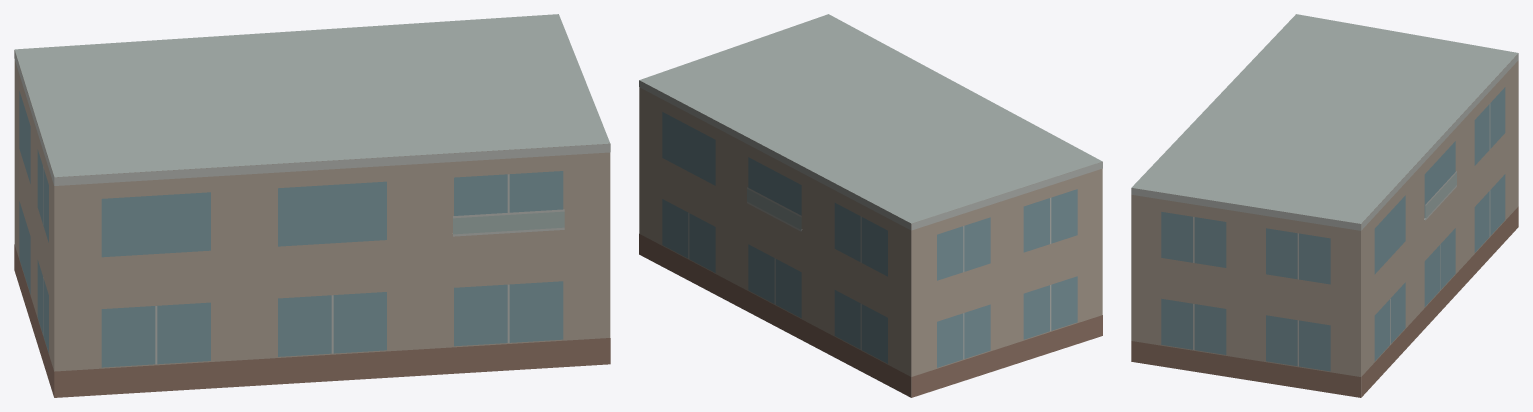
File: survey-upis-32994819.glb
3 views of the same model, side by side, from view 1: azimuth 30°, elevation 25°; view 2: azimuth 150°, elevation 25°; view 3: azimuth 270°, elevation 25° (orthographic). The views are drawn at different scales.
Visible parts, largest first — view 1: survey-upis-32994819.tmp; view 2: survey-upis-32994819.tmp; view 3: survey-upis-32994819.tmp.
Boxes of the visible parts, left/top/right/bottom form: survey-upis-32994819.tmp: left=14, top=14, right=610, bottom=397; survey-upis-32994819.tmp: left=639, top=14, right=1102, bottom=397; survey-upis-32994819.tmp: left=1131, top=14, right=1518, bottom=397.
Size of the model in its own units: 15.8 by 6.1 by 12.32.
